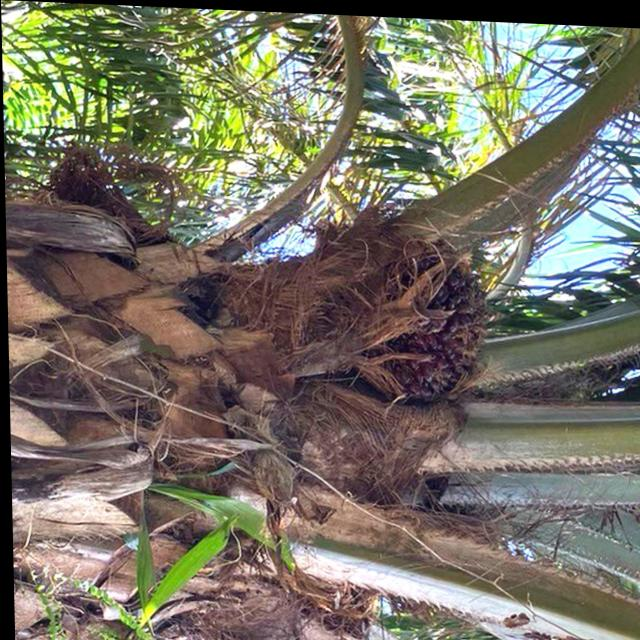ripe: (304, 226, 497, 414)
